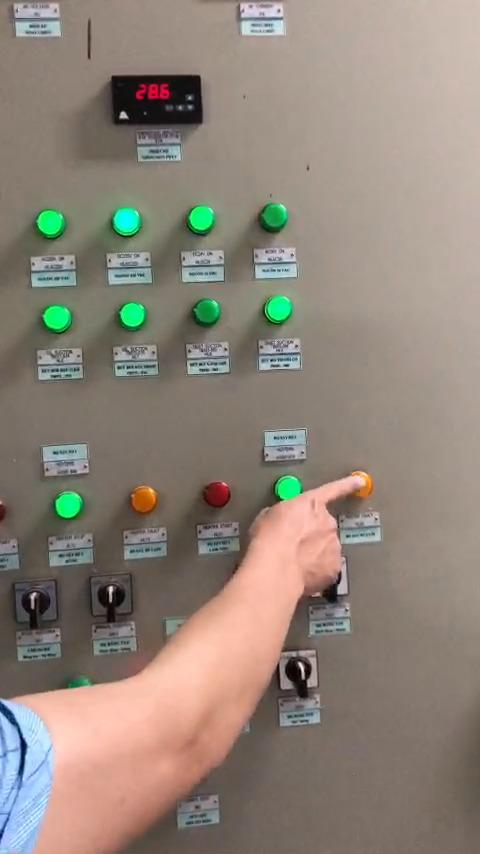led: (187, 203, 221, 236), (274, 472, 306, 503), (260, 202, 291, 233), (37, 208, 68, 239), (203, 474, 233, 506), (60, 486, 90, 516), (347, 468, 376, 499), (120, 301, 150, 330), (132, 481, 161, 511), (195, 298, 225, 326), (265, 293, 294, 321), (42, 304, 70, 333), (113, 208, 141, 236)
twist: (12, 576, 57, 626), (84, 570, 130, 618), (282, 645, 321, 688)
